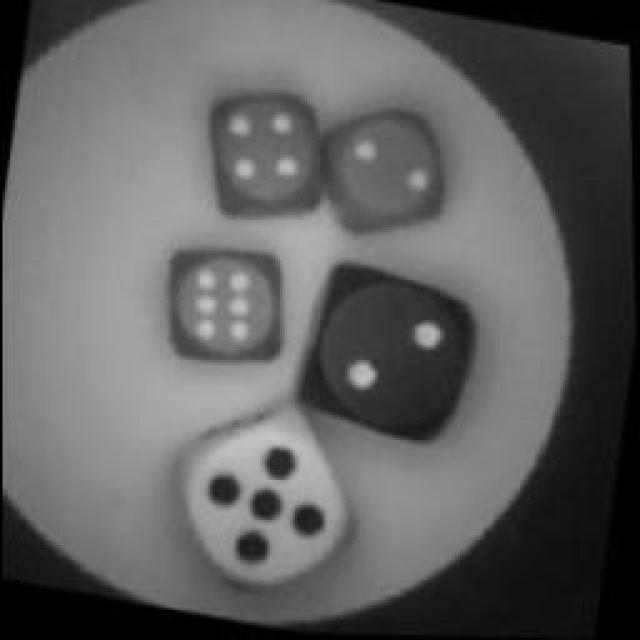dice_2: (291, 251, 494, 459), (306, 100, 459, 252)
dice_4: (191, 82, 349, 236)
dice_5: (144, 382, 378, 616)
dice_6: (150, 229, 308, 386)
